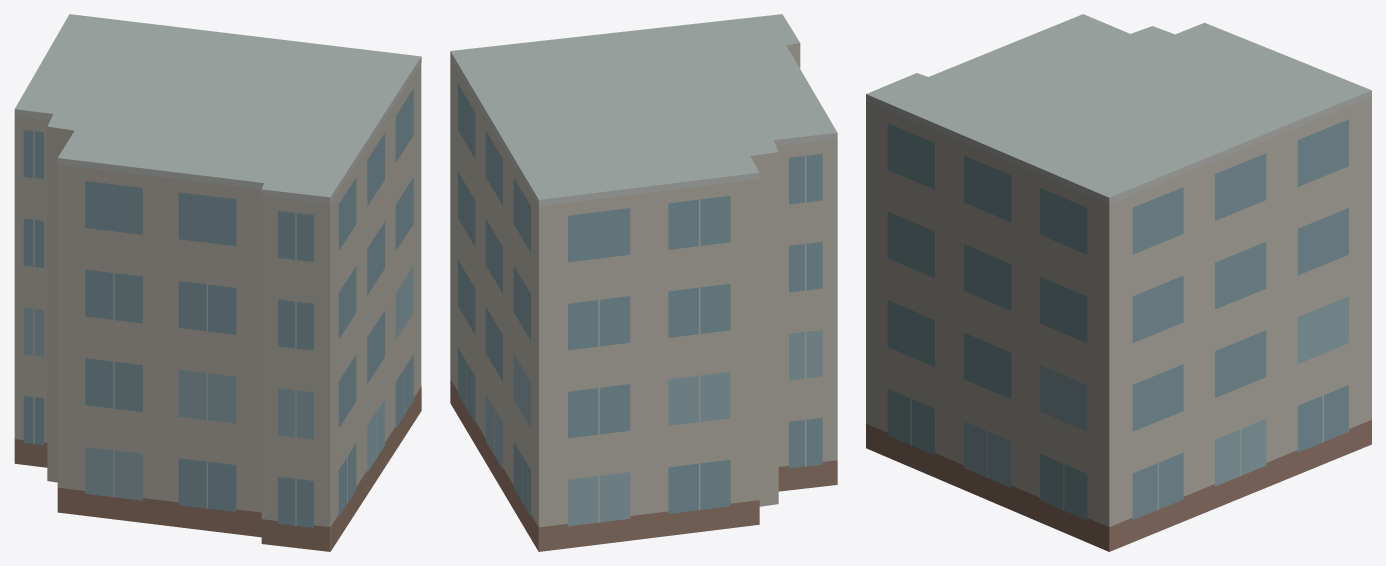
File: survey-upis-32596224.glb
3 views of the same model, side by side, from view 1: azimuth 30°, elevation 25°; view 2: azimuth 150°, elevation 25°; view 3: azimuth 270°, elevation 25° (orthographic).
Visible parts, largest first — view 1: survey-upis-32596224.tmp; view 2: survey-upis-32596224.tmp; view 3: survey-upis-32596224.tmp.
Boxes of the visible parts, x1,y1,x2,y2 form: survey-upis-32596224.tmp: (14,14,421,551); survey-upis-32596224.tmp: (450,14,837,551); survey-upis-32596224.tmp: (866,14,1371,551).
Size of the model in its own units: 14.7 by 13.2 by 17.09.
